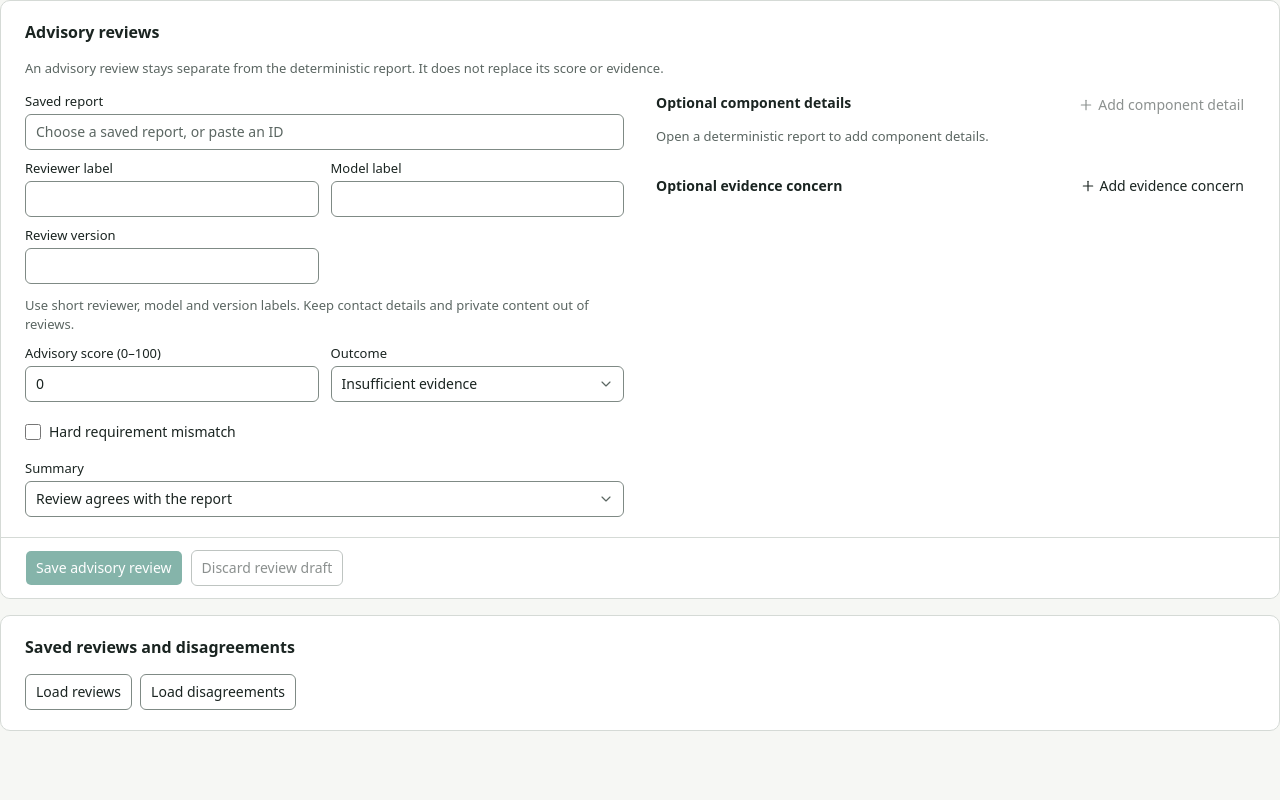
Test: advisory review audit fixes › says when a loaded review or disagreement list is empty
Expected: the field labelled "Reviewer label" is enabled, left=25, top=180, right=318, bottom=216
Click the button with test id "loadReviewHistoryButton". click: {"x": 79, "y": 692}
box: left=25, top=674, right=132, bottom=710
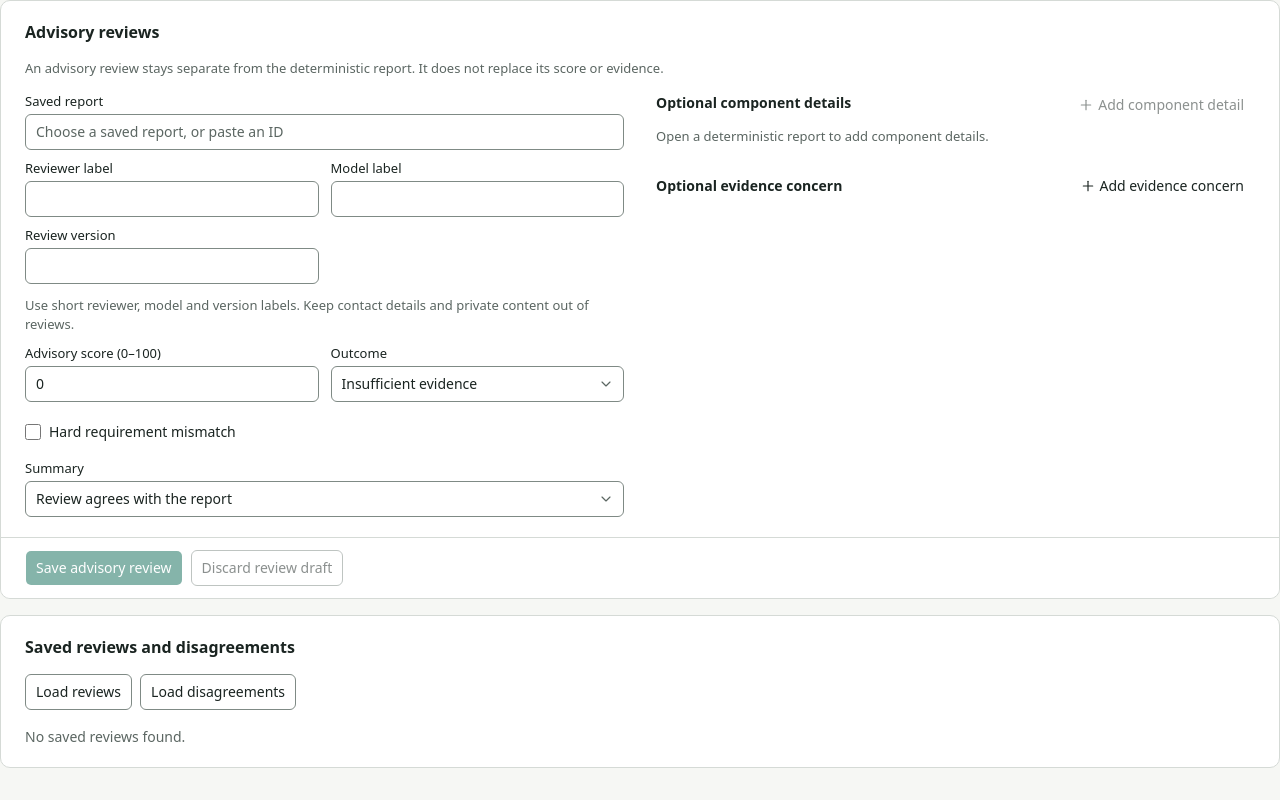
Expected: the text "No saved reviews found." is shown, left=25, top=726, right=185, bottom=746
Click the button with test id "loadDisagreementHistoryButton". click: {"x": 218, "y": 692}
box: left=140, top=674, right=296, bottom=710
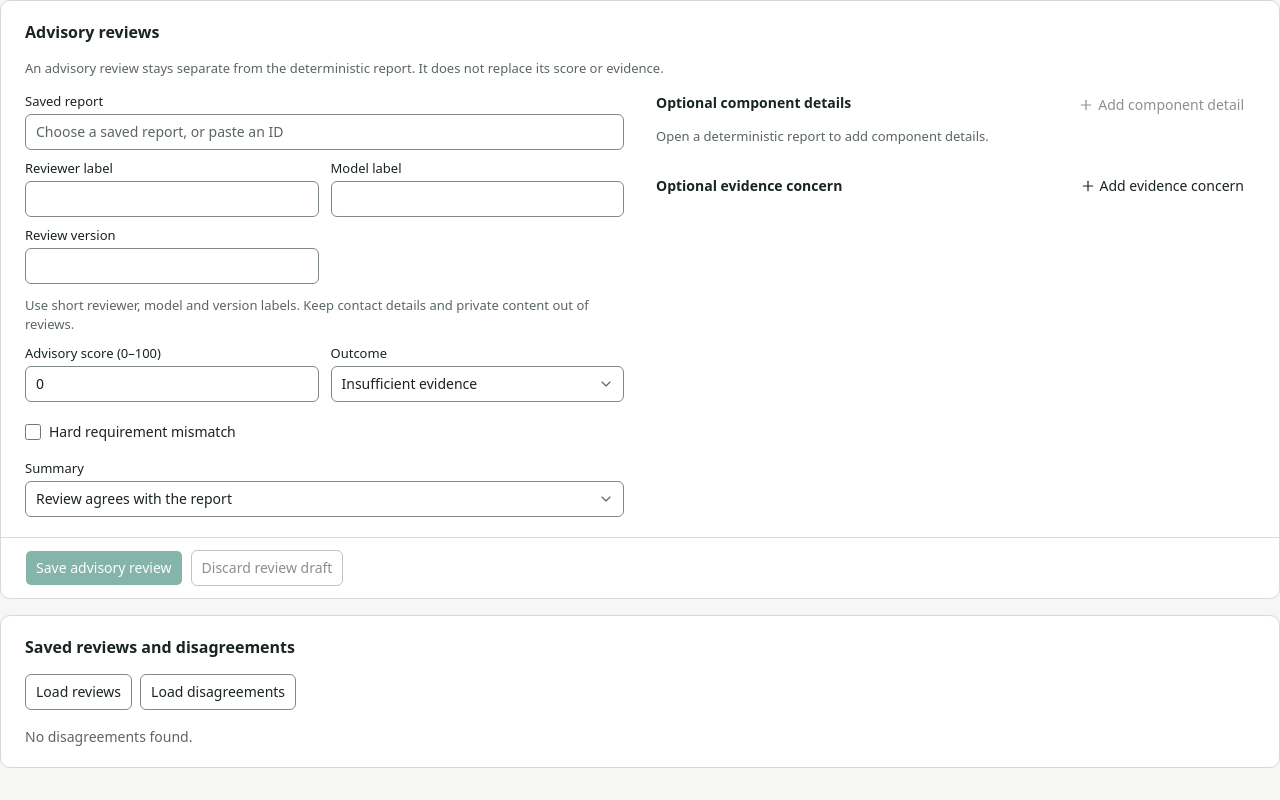
Expected: the text "No disagreements found." is shown, left=25, top=726, right=192, bottom=746
